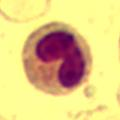monocyte: (20, 18, 94, 96)
